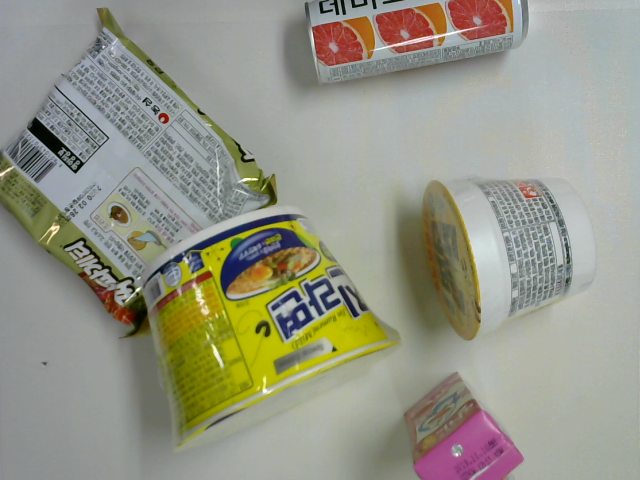Demisoda_Grapefruit_Can_250ml: (301, 1, 533, 89)
Hejangmini: (420, 170, 598, 344)
Jinlamyeon_Mild_Taste_Large_Cup: (138, 198, 404, 460)
Olive_Chapaghetti: (1, 12, 284, 339)
Strawberry_E_Mong: (402, 367, 529, 480)
